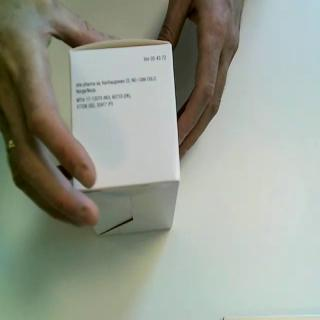levopidon25mg: (68, 37, 183, 238)
